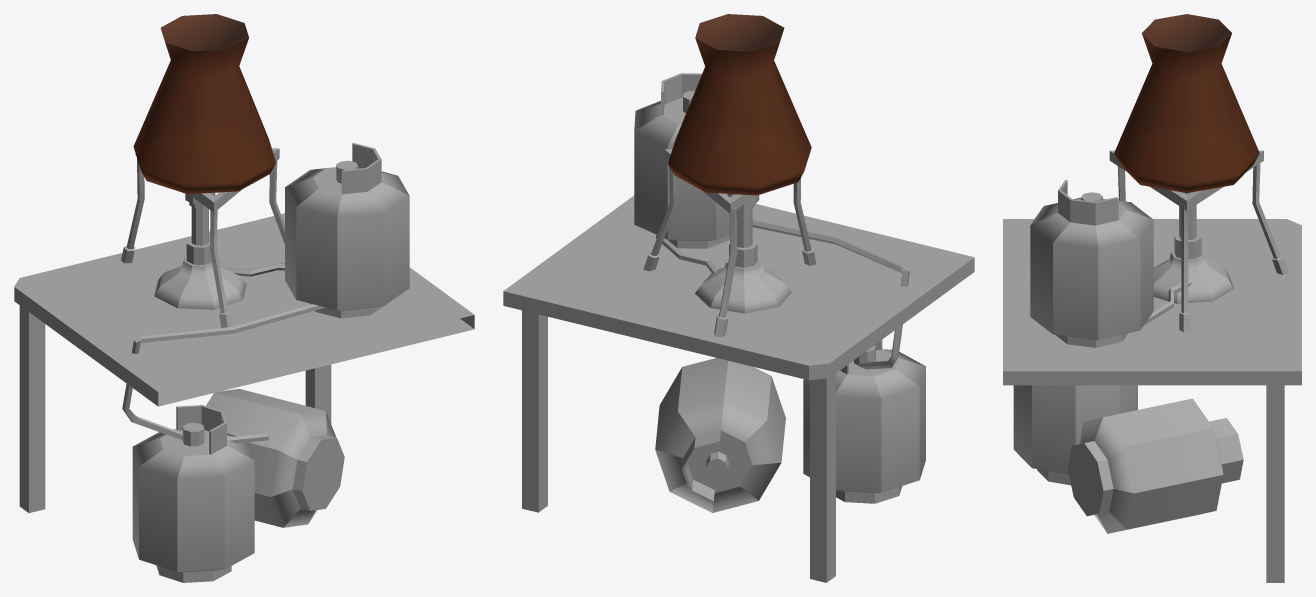
The model's file is bunsen Burner.fbx.
3 renders of one model, left to right at view 1: azimuth 30°, elevation 25°; view 2: azimuth 150°, elevation 25°; view 3: azimuth 270°, elevation 25°, orthographic. The views are drawn at different scales.
Visible parts, largest first — view 1: polySurface131; view 2: polySurface131; view 3: polySurface131.
Boxes of the visible parts, x1,y1,x2,y2 form: polySurface131: (14,14,474,582); polySurface131: (503,14,974,582); polySurface131: (1003,14,1301,582).
Bounding box in the file's own units: 121 × 174 × 100.
